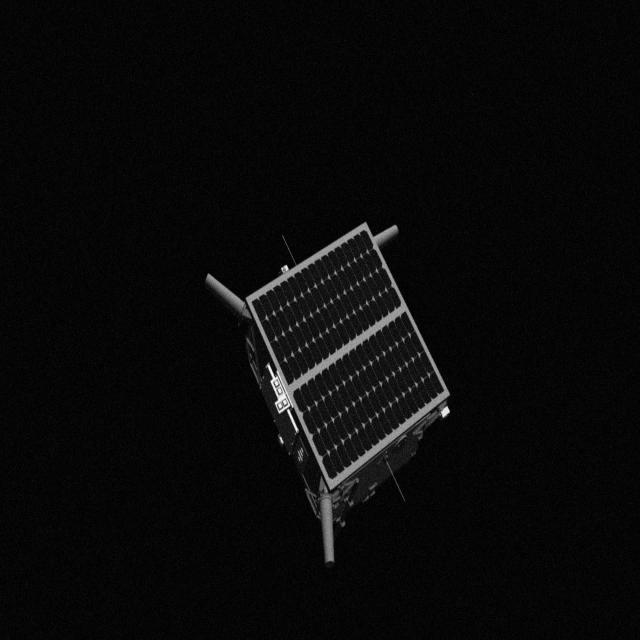medium_debris: (208, 208, 466, 578)
